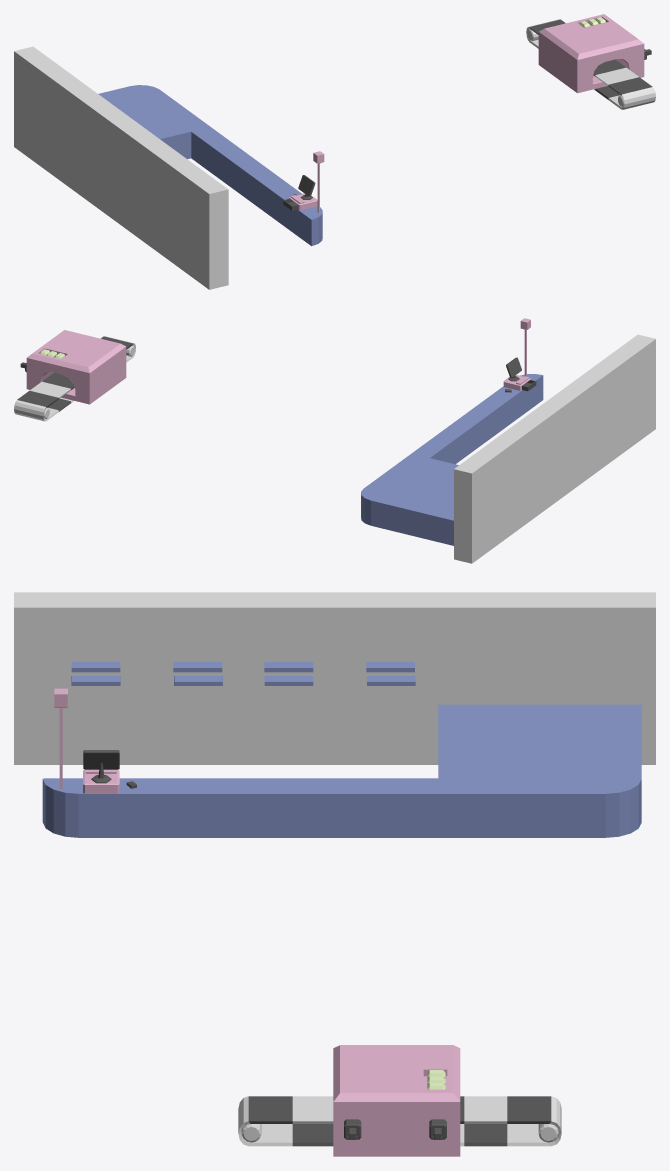
Rendered from MAKINA.fbx.
3 views of the same model, one above another, from view 1: azimuth 30°, elevation 25°; view 2: azimuth 150°, elevation 25°; view 3: azimuth 270°, elevation 25° (orthographic). The views are drawn at different scales.
Parts seen in each view (by area): view 1: Cube, Stand_U, MAKİNA_1, MAKİNA_11, Cash_Register; view 2: Cube, Stand_U, MAKİNA_1, MAKİNA_11, Cash_Register; view 3: Cube, Stand_U, MAKİNA_1, MAKİNA_11, Shelf.001, Shelf, Cash_Register.
Part boxes in pixels (box(x1,y1,x2,y2)): Cube: box(14, 46, 228, 289); Stand_U: box(98, 85, 322, 246); MAKİNA_1: box(538, 14, 651, 93); MAKİNA_11: box(526, 19, 655, 109); Cash_Register: box(289, 175, 317, 210); Cube: box(454, 334, 655, 563); Stand_U: box(361, 374, 543, 545); MAKİNA_1: box(20, 330, 126, 404); MAKİNA_11: box(14, 336, 135, 421); Cash_Register: box(503, 357, 530, 392); Cube: box(14, 592, 655, 764); Stand_U: box(42, 704, 641, 837); MAKİNA_1: box(333, 1045, 460, 1156); MAKİNA_11: box(238, 1096, 561, 1146); Shelf.001: box(71, 662, 222, 685); Shelf: box(264, 662, 415, 685); Cash_Register: box(83, 750, 136, 793).
Size of the model in its own units: 5666 by 953 by 3522.
